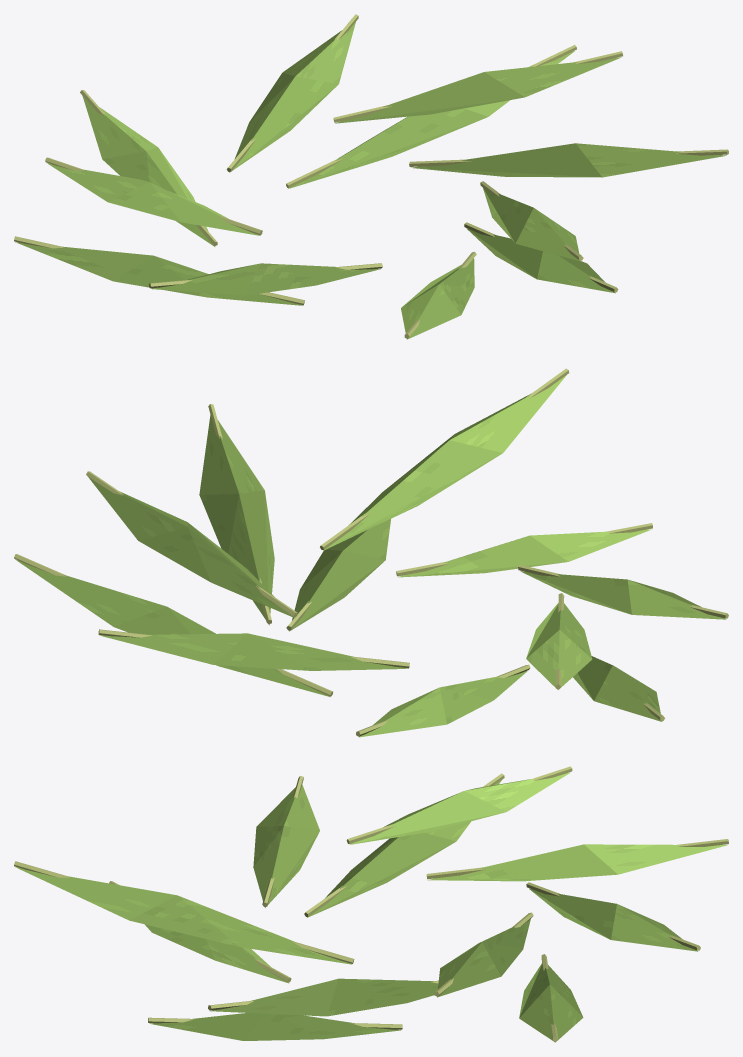
The model's file is lettuce.glb.
3 renders of one model, top to bottom at view 1: azimuth 30°, elevation 25°; view 2: azimuth 150°, elevation 25°; view 3: azimuth 270°, elevation 25°, orthographic. The views are drawn at different scales.
Visible parts, largest first — view 1: block_cut leafy ribbon blade (×13), block_cut leafy ribbon tip (×11), block_cut leafy ribbon vein (×3); view 2: block_cut leafy ribbon blade (×14), block_cut leafy ribbon tip (×13), block_cut leafy ribbon vein (×2); view 3: block_cut leafy ribbon blade (×14), block_cut leafy ribbon tip (×12), block_cut leafy ribbon vein (×4).
Part boxes in pixels (bbox=[...]): block_cut leafy ribbon blade (×13): bbox=[102, 72, 602, 314]; block_cut leafy ribbon tip (×11): bbox=[15, 22, 726, 339]; block_cut leafy ribbon vein (×3): bbox=[286, 45, 728, 188]; block_cut leafy ribbon blade (×14): bbox=[114, 440, 631, 724]; block_cut leafy ribbon tip (×13): bbox=[16, 375, 726, 737]; block_cut leafy ribbon vein (×2): bbox=[14, 368, 569, 696]; block_cut leafy ribbon blade (×14): bbox=[130, 791, 617, 1040]; block_cut leafy ribbon tip (×12): bbox=[15, 772, 727, 1042]; block_cut leafy ribbon vein (×4): bbox=[14, 766, 728, 1029].
Size of the model in its own units: 0.1031 by 0.0216 by 0.1058.
Materials: 2 (2 with a texture image).
